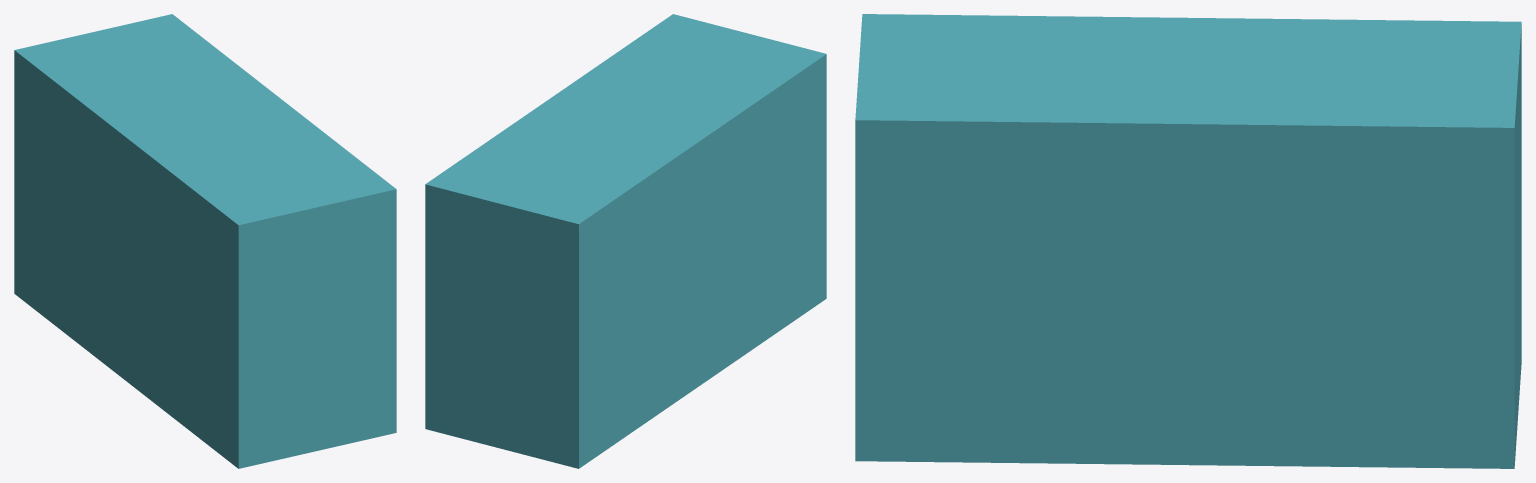
The picture shows the model from 3 angles, left to right: view 1: azimuth 30°, elevation 25°; view 2: azimuth 150°, elevation 25°; view 3: azimuth 270°, elevation 25°; orthographic projection. The views are drawn at different scales.
Visible parts, largest first — view 1: Cube; view 2: Cube; view 3: Cube.
Boxes of the visible parts, bbox=[...] form: Cube: bbox=[14, 14, 396, 468]; Cube: bbox=[425, 14, 826, 468]; Cube: bbox=[855, 14, 1521, 468].
Bounding box in the file's own units: 25.15 × 35.09 × 62.12.
